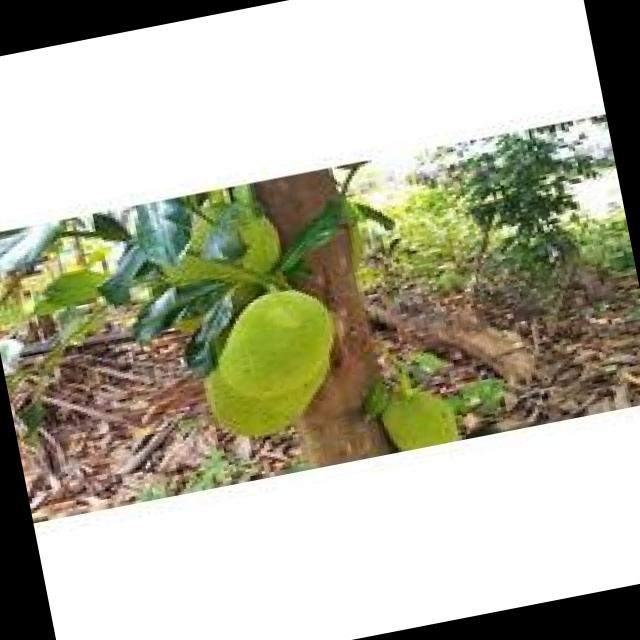Fruit: (170, 261, 370, 462)
